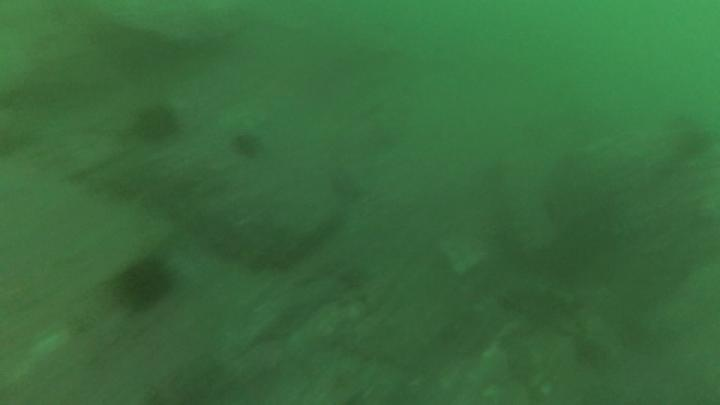echinus: (112, 253, 178, 315), (132, 102, 181, 145), (229, 129, 265, 161)
